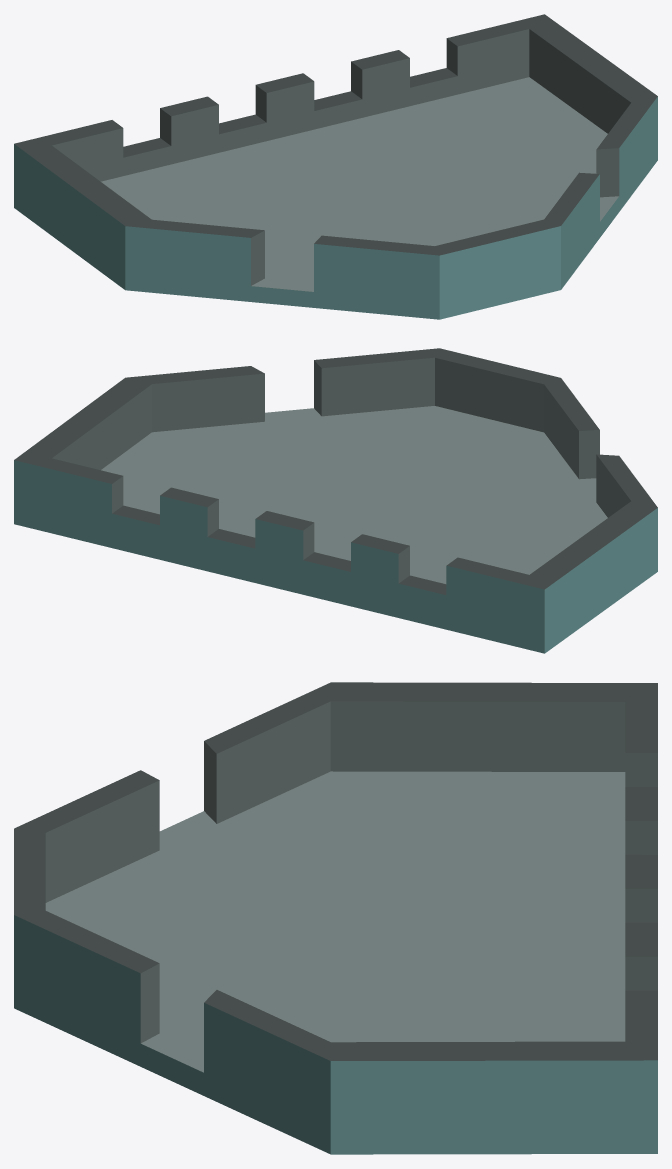
3 renders of one model, top to bottom at view 1: azimuth 30°, elevation 25°; view 2: azimuth 150°, elevation 25°; view 3: azimuth 270°, elevation 25°, orthographic. The views are drawn at different scales.
Visible parts, largest first — view 1: pCylinder1; view 2: pCylinder1; view 3: pCylinder1.
Part boxes in pixels (x1,y1,x2,y2): pCylinder1: (14, 14, 657, 319); pCylinder1: (14, 348, 657, 653); pCylinder1: (14, 682, 657, 1154).
Size of the model in its own units: 152 by 17.43 by 109.
